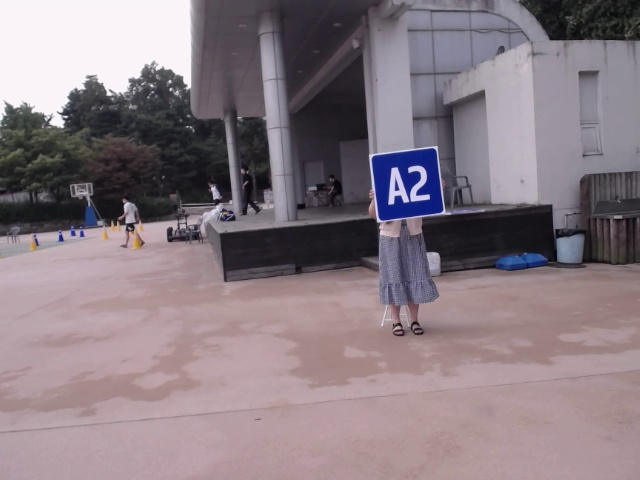delivery_a2: (371, 147, 445, 222)
